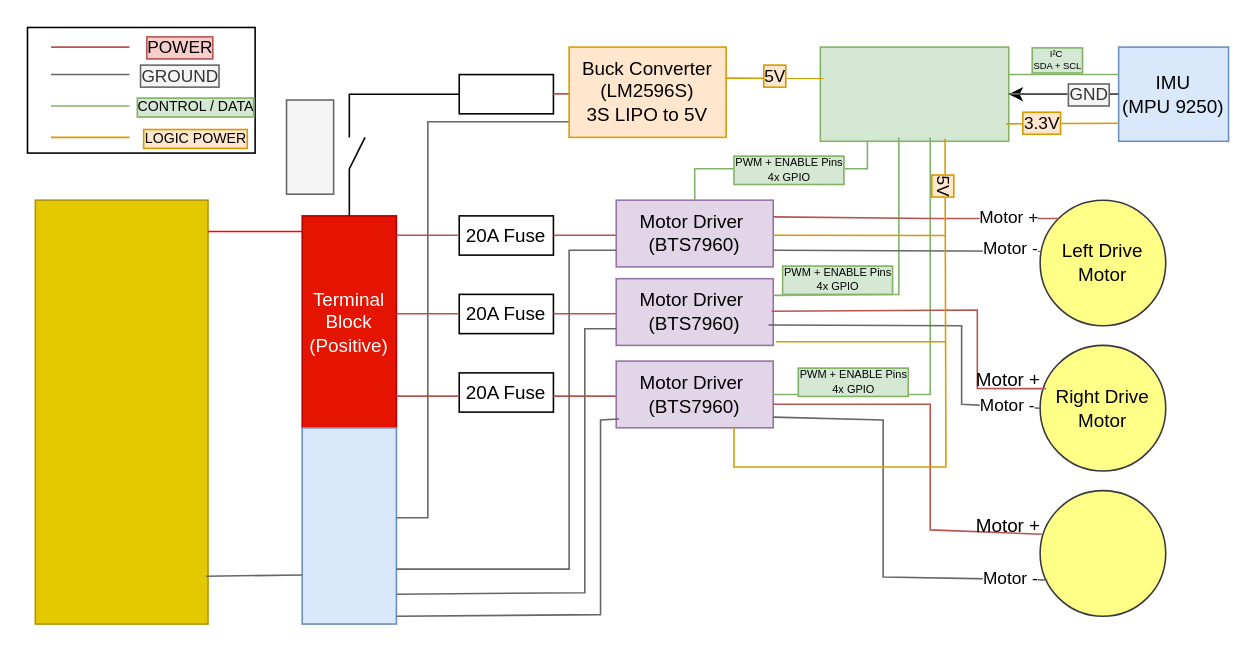
Some shapes in this 1256 by 652 pixel diagram are drawn without their labels. Here are the shapes that lost their labels. From the top down, the box of each, then its label:
(458, 73, 553, 114): 2A Fuse
(819, 46, 1009, 141): Custom Interconnect PCB w/ ESP32
(285, 98, 334, 194): Master Switch
(34, 199, 208, 624): Lipo Battery 11.1V Nominal 12.6V Max 5200mAh
(301, 426, 396, 624): Terminal Block (Negative)
(1039, 489, 1166, 616): Front/Arm Motor
